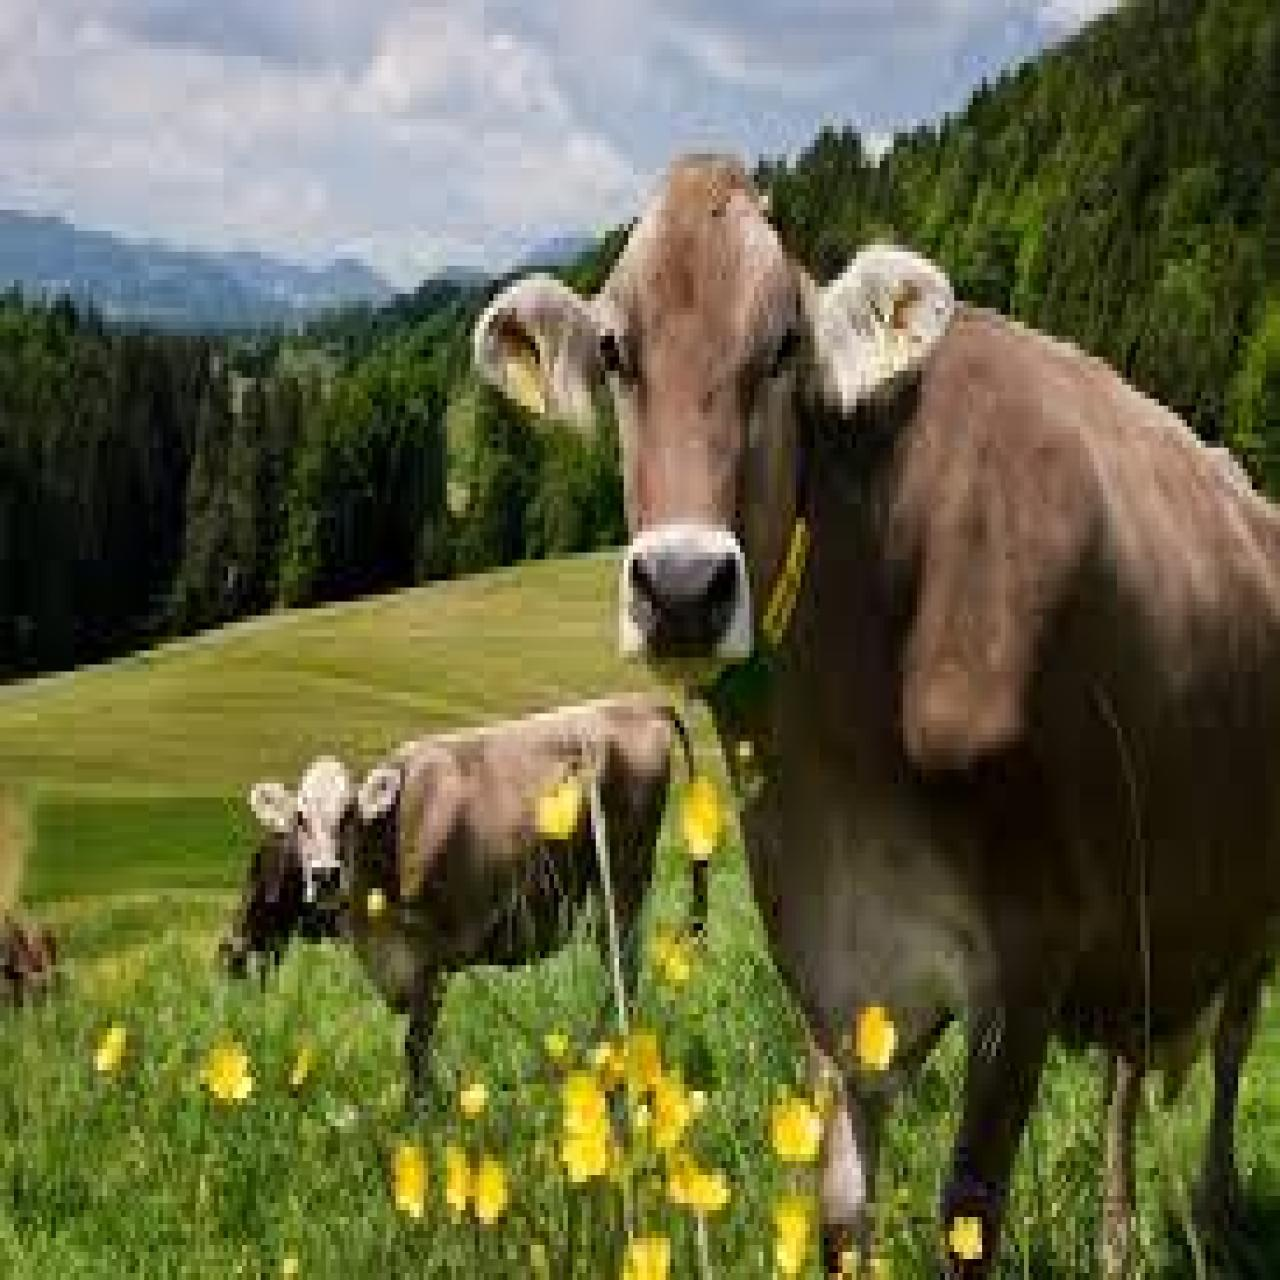cow: (475, 182, 1280, 1280), (252, 693, 670, 1091)
